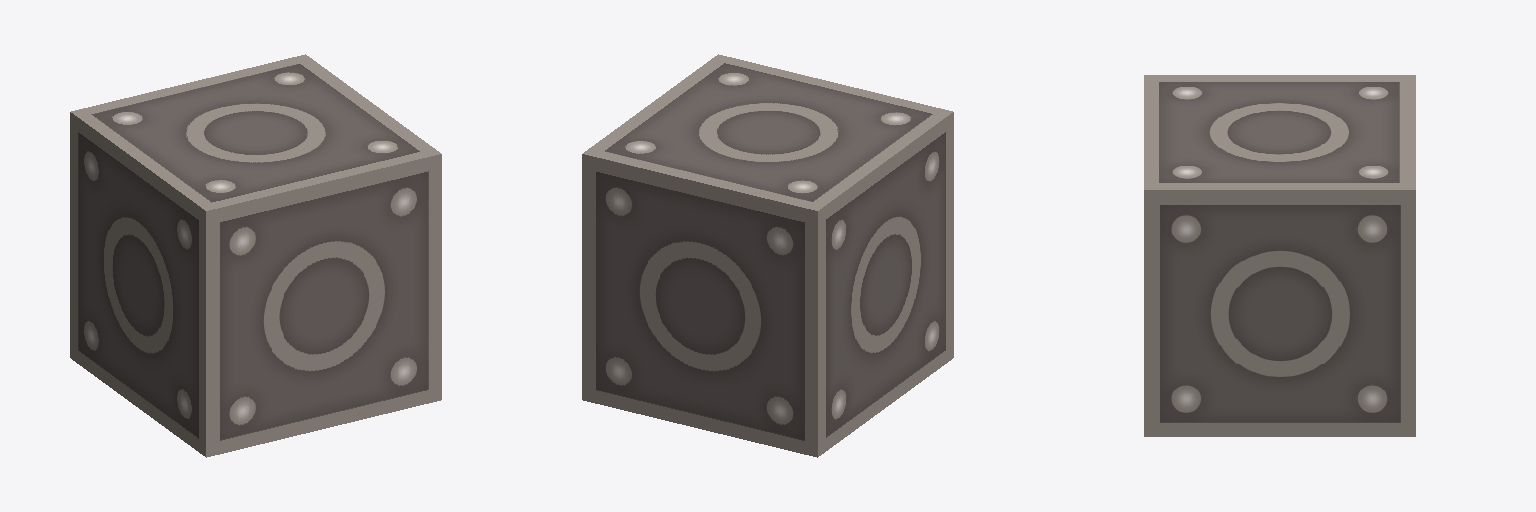
3 views of the same model, side by side, from view 1: azimuth 30°, elevation 25°; view 2: azimuth 150°, elevation 25°; view 3: azimuth 270°, elevation 25° (orthographic).
Visible parts, largest first — view 1: Cube; view 2: Cube; view 3: Cube.
Boxes of the visible parts, x1,y1,x2,y2 form: Cube: [70, 54, 441, 457]; Cube: [582, 54, 953, 457]; Cube: [1144, 75, 1415, 436].
Bounding box in the file's own units: 1 × 1 × 1.
1 materials, 1 textured.